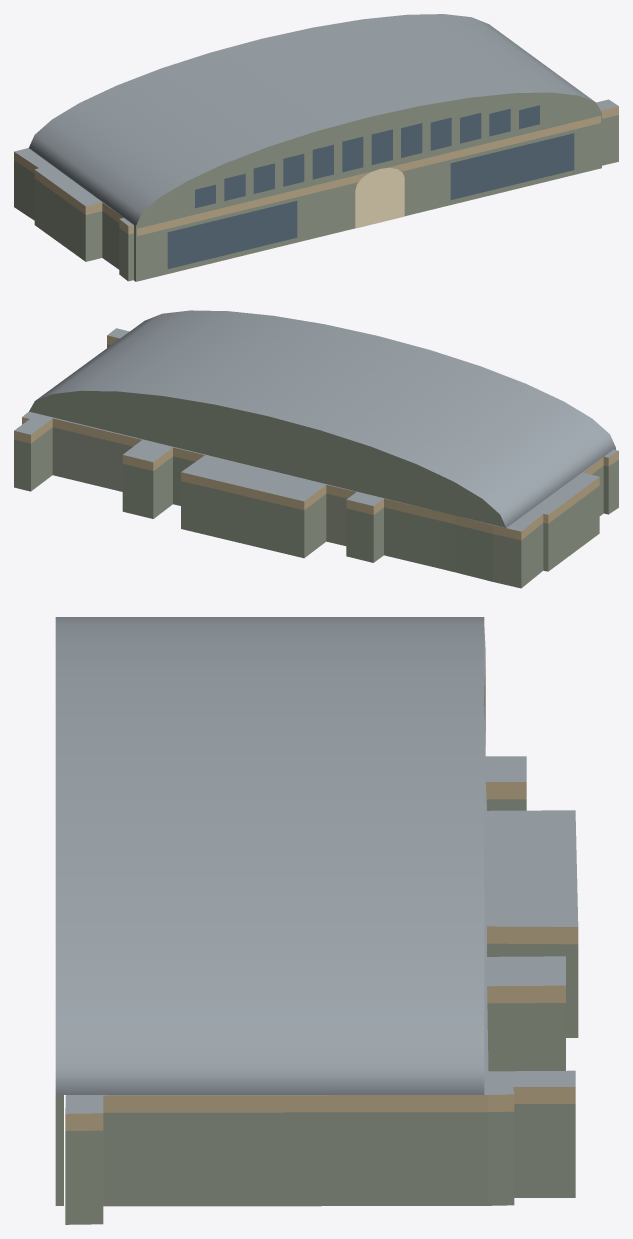
3 views of the same model, one above another, from view 1: azimuth 30°, elevation 25°; view 2: azimuth 150°, elevation 25°; view 3: azimuth 270°, elevation 25° (orthographic). The views are drawn at different scales.
Parts seen in each view (by area): view 1: soarin-around-the-world-disneyland; view 2: soarin-around-the-world-disneyland; view 3: soarin-around-the-world-disneyland.
Part boxes in pixels (box(x1,y1,x2,y2)): soarin-around-the-world-disneyland: box(14, 14, 618, 281); soarin-around-the-world-disneyland: box(14, 310, 618, 588); soarin-around-the-world-disneyland: box(55, 617, 578, 1224).
Size of the model in its own units: 85.4 by 17.5 by 38.48.
